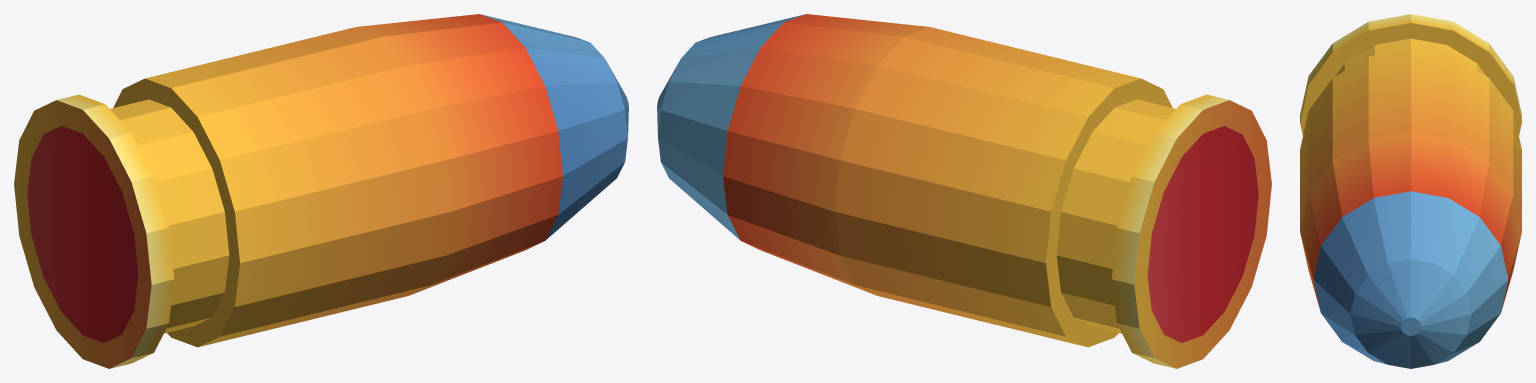
The model's file is guy projectile.glb.
3 renders of one model, left to right at view 1: azimuth 30°, elevation 25°; view 2: azimuth 150°, elevation 25°; view 3: azimuth 270°, elevation 25°, orthographic. The views are drawn at different scales.
Visible parts, largest first — view 1: Cylinder; view 2: Cylinder; view 3: Cylinder.
Part boxes in pixels (left/top/right/bottom): Cylinder: left=14, top=14, right=628, bottom=368; Cylinder: left=657, top=14, right=1271, bottom=368; Cylinder: left=1300, top=14, right=1521, bottom=368.
Bounding box in the file's own units: 0.4481 × 0.1978 × 0.1978.
Materials: 1 (1 with a texture image).
